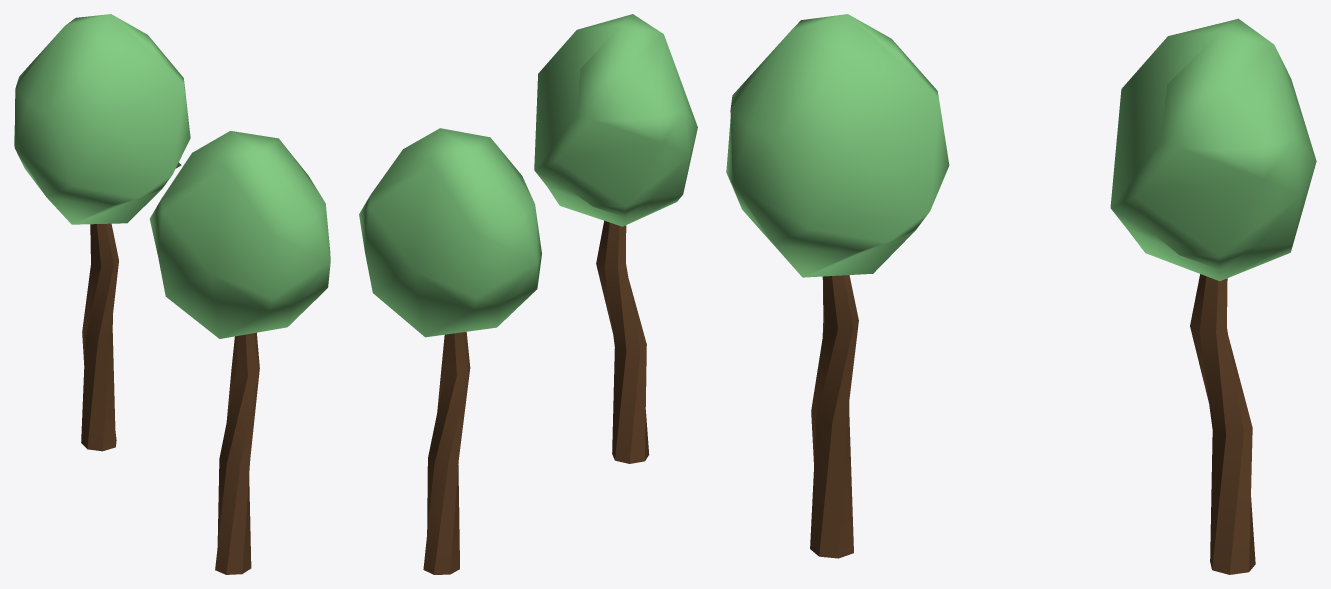
File: trees.fbx
3 renders of one model, left to right at view 1: azimuth 30°, elevation 25°; view 2: azimuth 150°, elevation 25°; view 3: azimuth 270°, elevation 25°, orthographic. The views are drawn at different scales.
Visible parts, largest first — view 1: pasted__pCube1, pCube1, pasted__pCylinder1, pCylinder1; view 2: pCube1, pasted__pCube1, pasted__pCylinder1, pCylinder1; view 3: pasted__pCube1, pCube1, pCylinder1, pasted__pCylinder1.
Boxes of the visible parts, <box> form: pasted__pCube1: <box>149,131,330,338</box>; pCube1: <box>14,14,190,224</box>; pasted__pCylinder1: <box>215,332,259,574</box>; pCylinder1: <box>81,223,118,451</box>; pCube1: <box>359,128,541,337</box>; pasted__pCube1: <box>534,14,697,226</box>; pasted__pCylinder1: <box>596,220,649,463</box>; pCylinder1: <box>423,331,470,574</box>; pasted__pCube1: <box>726,14,949,277</box>; pCube1: <box>1110,18,1316,281</box>; pCylinder1: <box>1190,274,1255,574</box>; pasted__pCylinder1: <box>810,275,858,558</box>.
Size of the model in its own units: 5.06 by 12.78 by 12.82.
